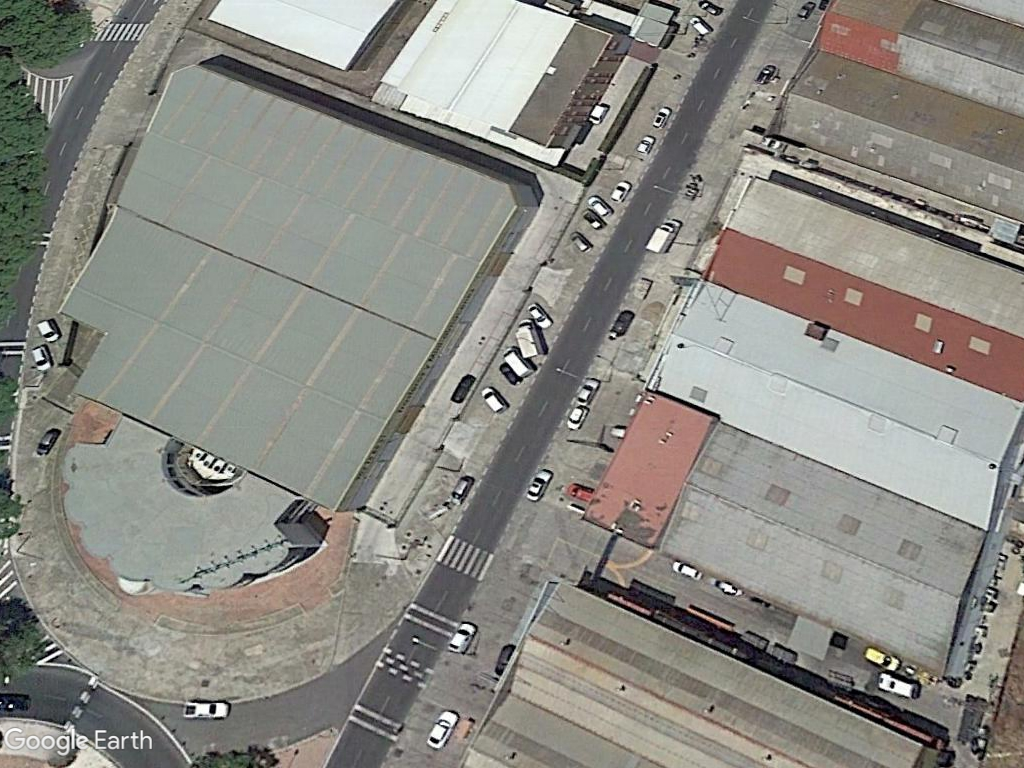car: (418, 706, 463, 752), (436, 616, 482, 660), (520, 463, 556, 506), (178, 698, 236, 722), (477, 384, 513, 418), (666, 555, 706, 585), (573, 372, 601, 409), (33, 427, 65, 459), (564, 226, 595, 257), (606, 175, 631, 208)
truck: (641, 212, 683, 257), (510, 315, 545, 363)
van: (26, 342, 58, 375), (32, 315, 66, 345)
